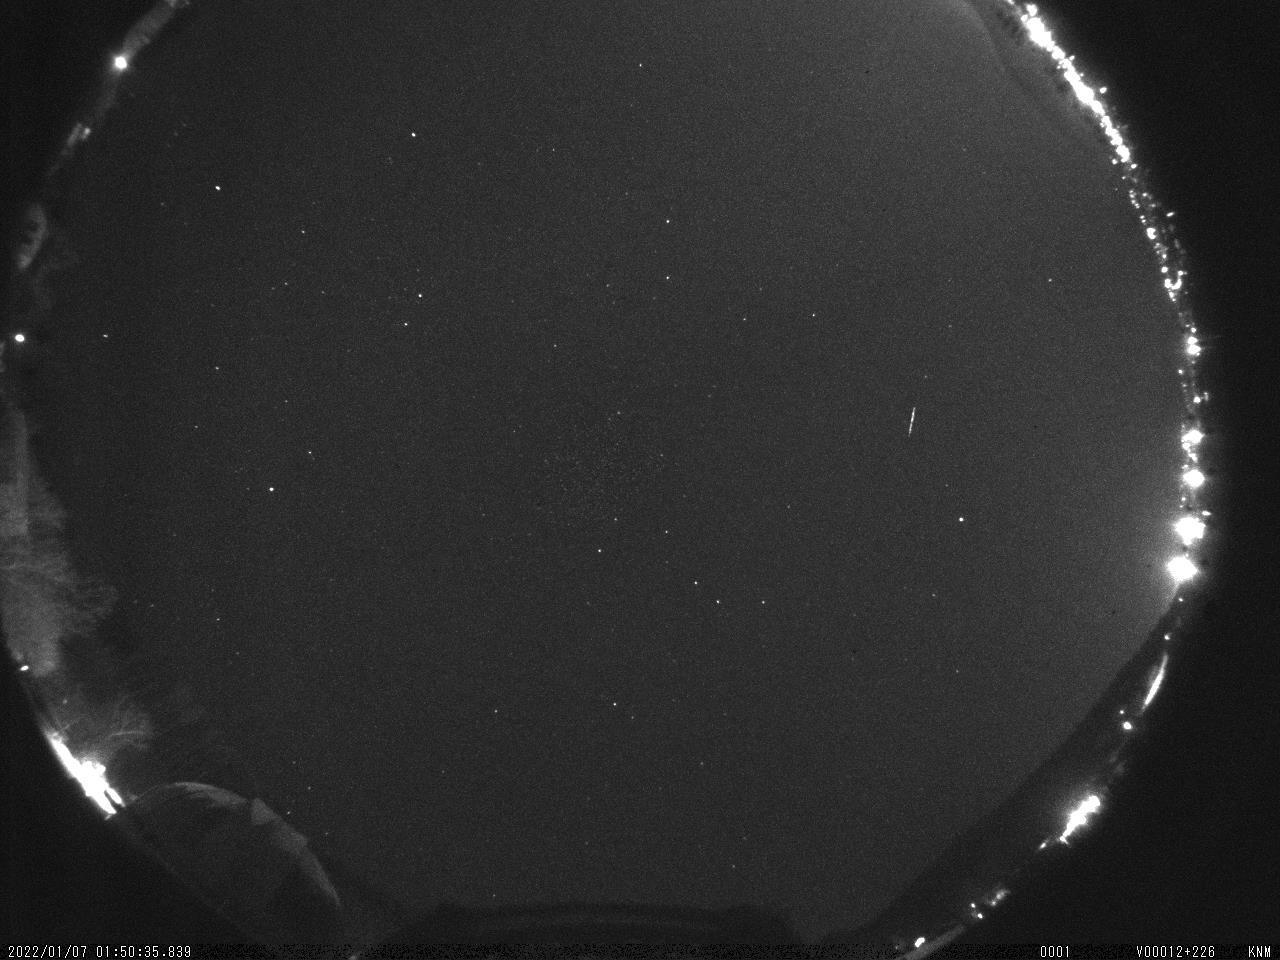Meteor: (904, 399, 923, 443)
